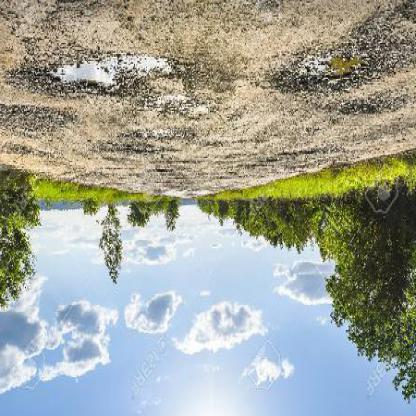pothole: (24, 54, 186, 104), (277, 43, 390, 100), (339, 95, 391, 122)
